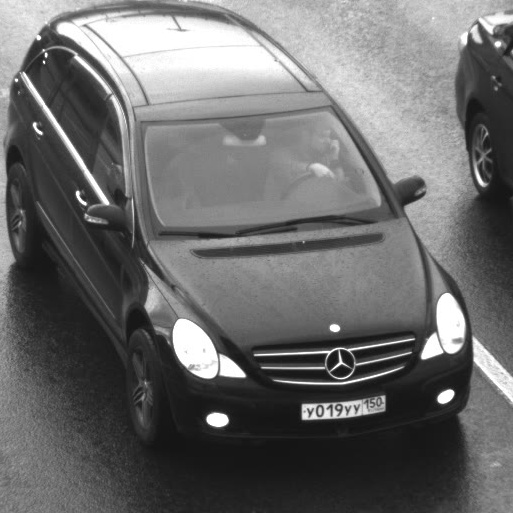plate: (290, 383, 396, 427)
